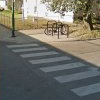crosswalk: (6, 43, 100, 96)
